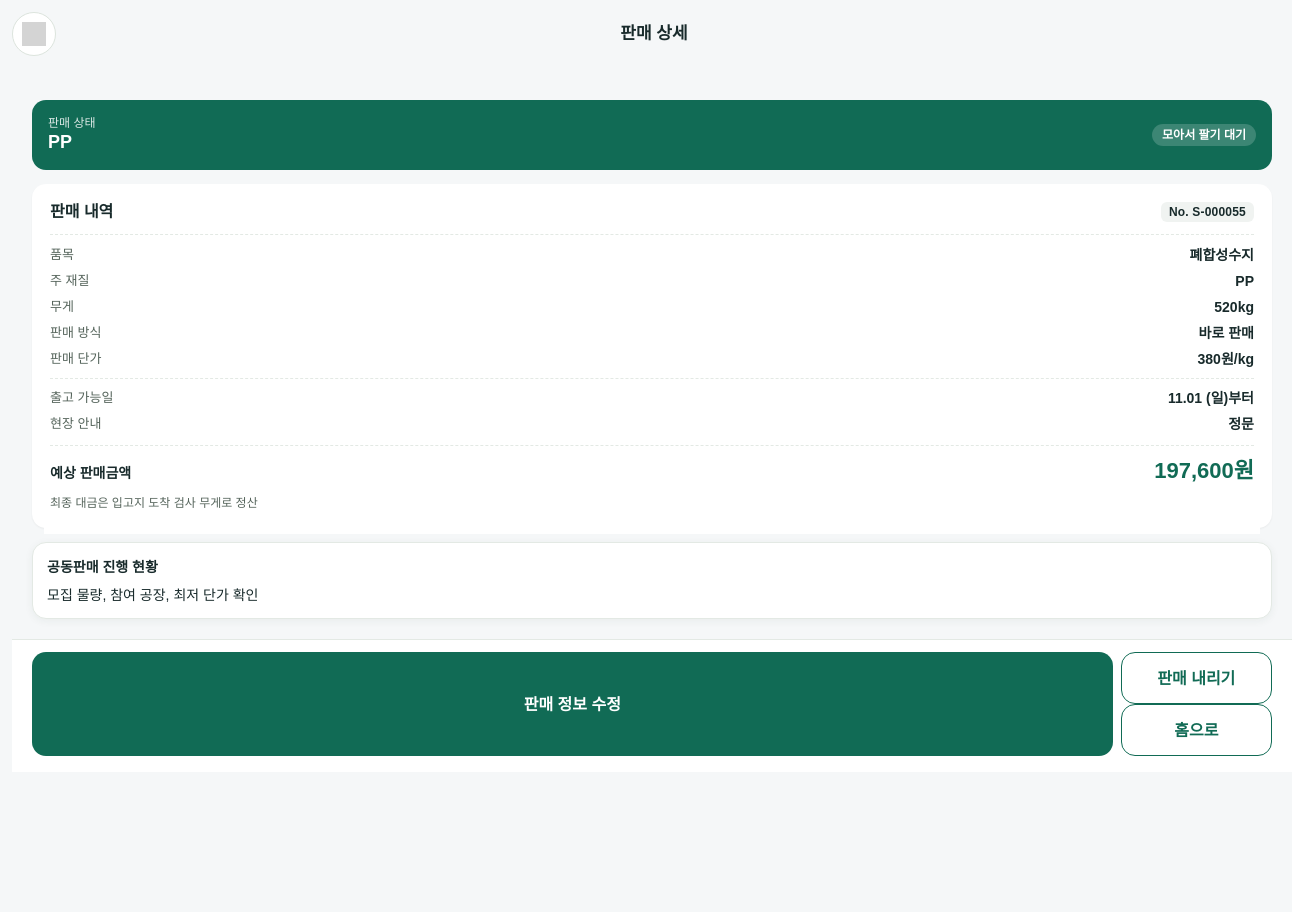
2 공동판매 중 단가 유지 시 수거 안내만 수정 요청
Click the button "판매 정보 수정" at (572, 704), box [32, 652, 1113, 756]
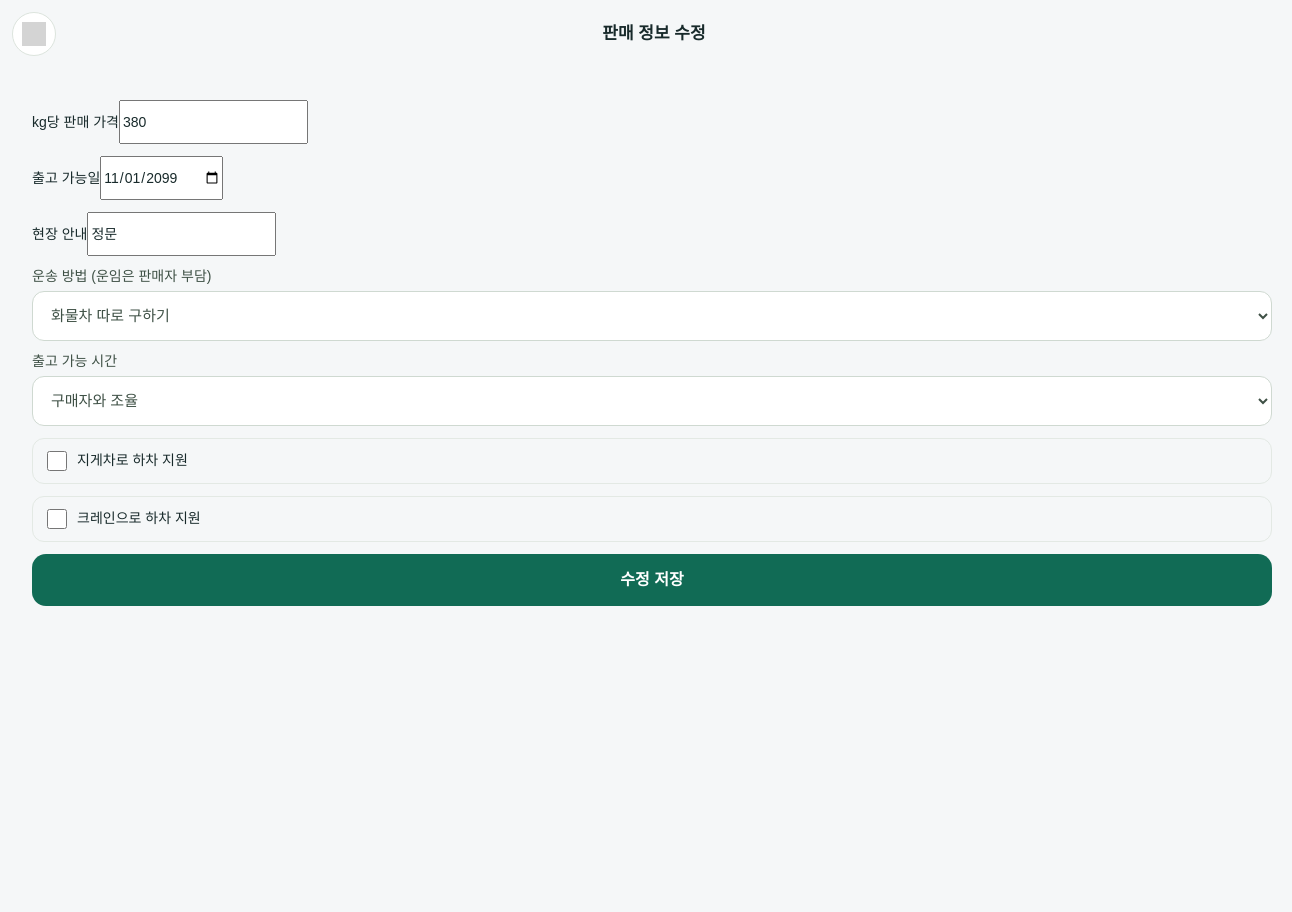
Replace the text in the field labelled "현장 안내" with "후문" at (182, 234), box [87, 212, 276, 256]
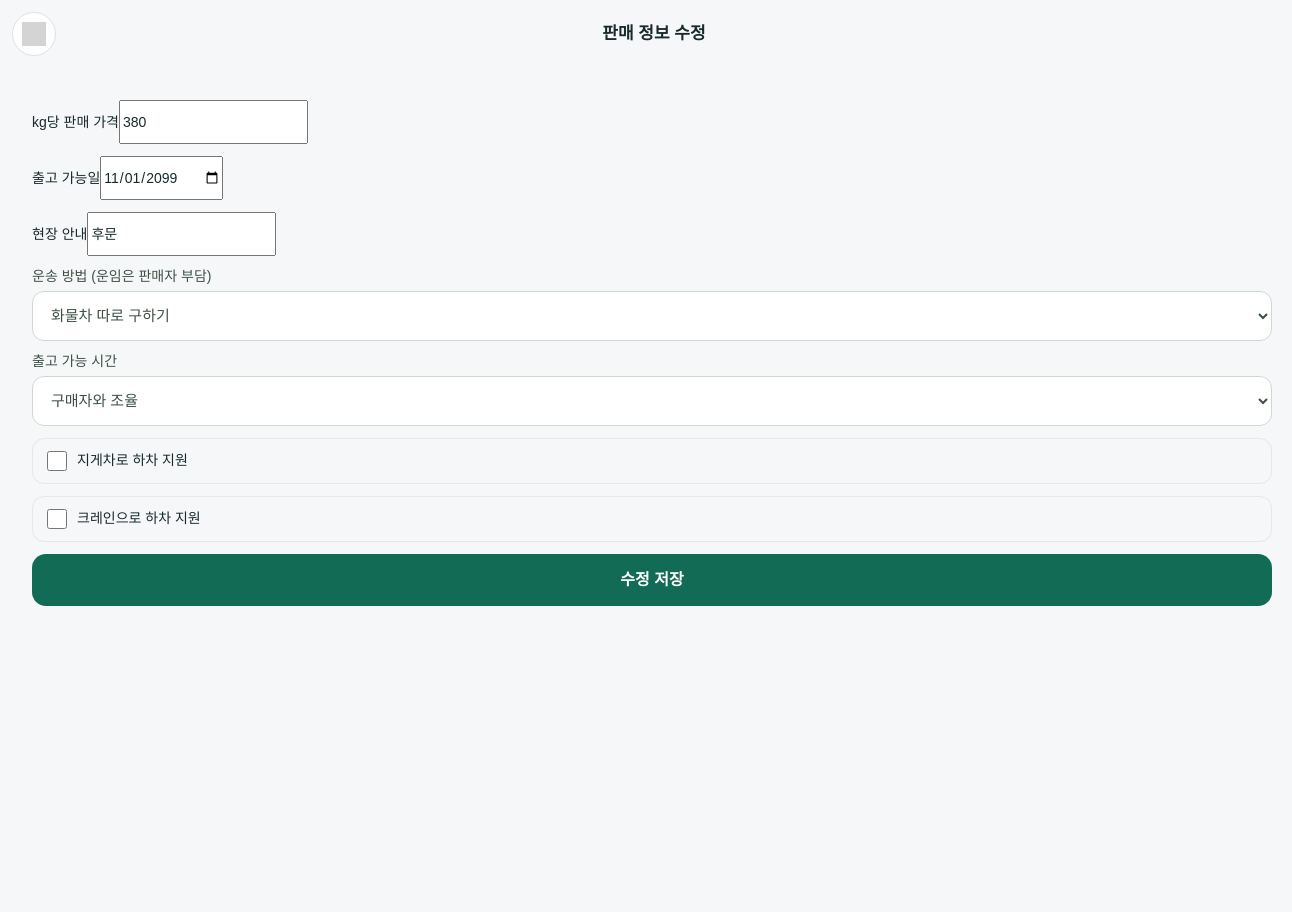
Click the button "수정 저장" at (652, 580), box [32, 554, 1272, 606]
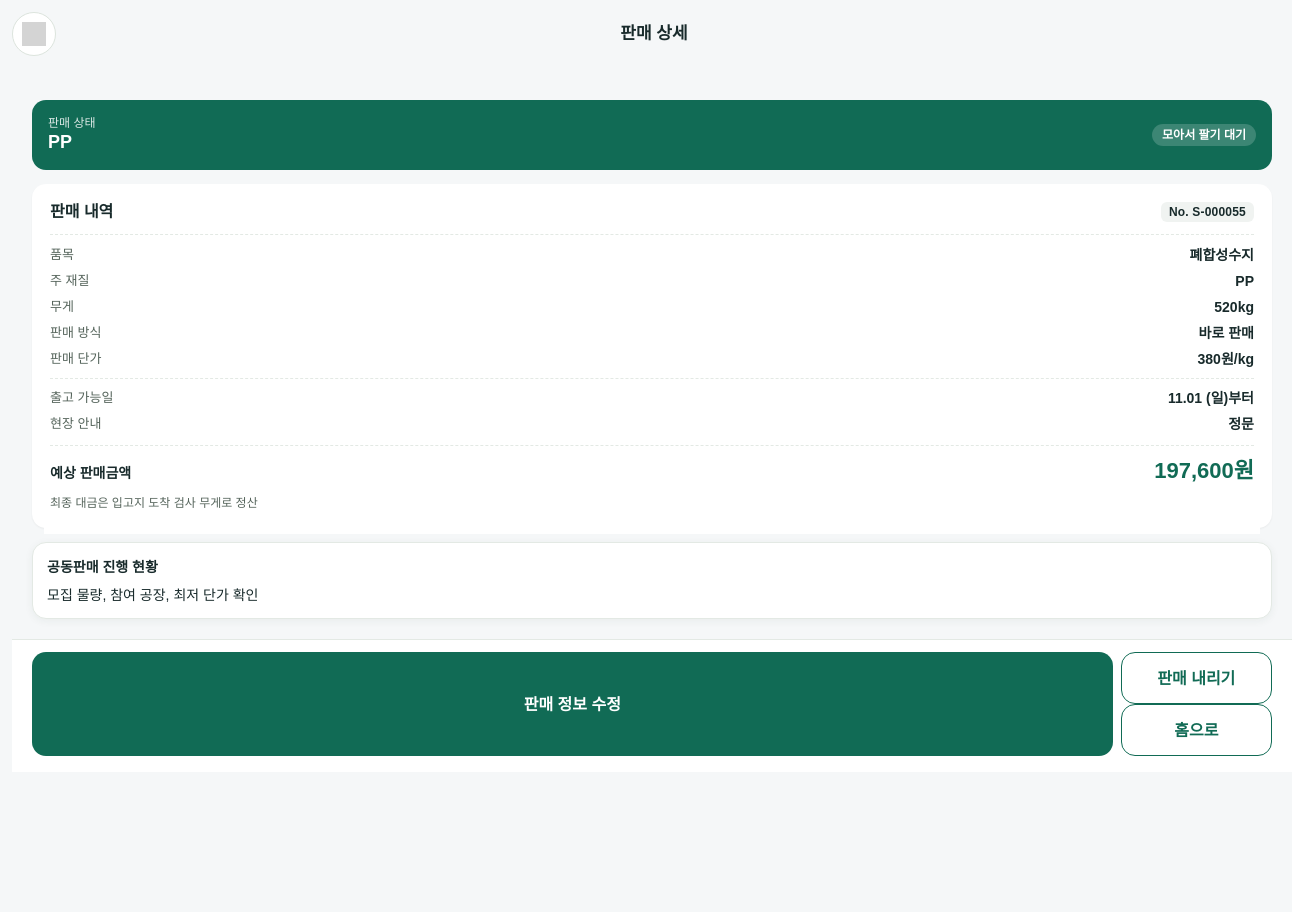
expect the text "판매 내역" is shown: met, box [50, 202, 113, 221]
